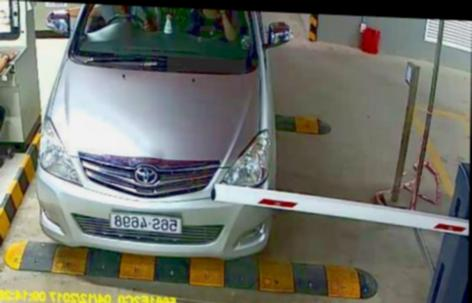License_Plate: (104, 206, 183, 238)
